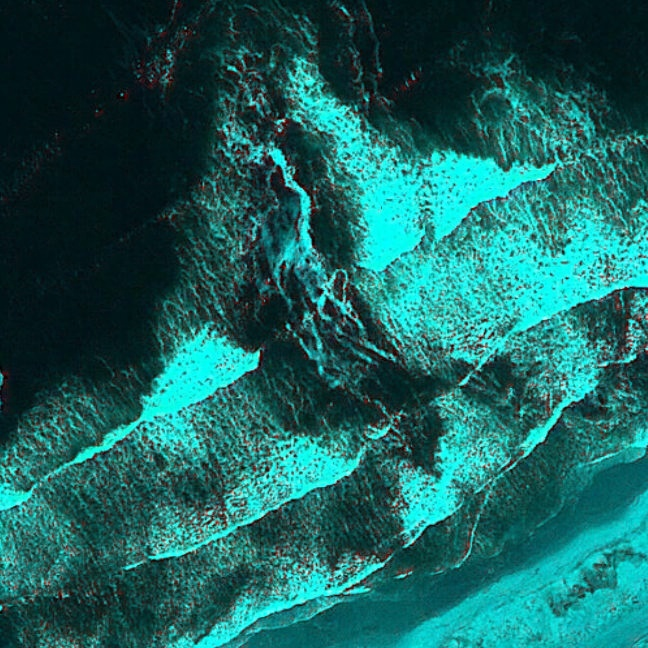rip_current: (118, 79, 462, 517)
